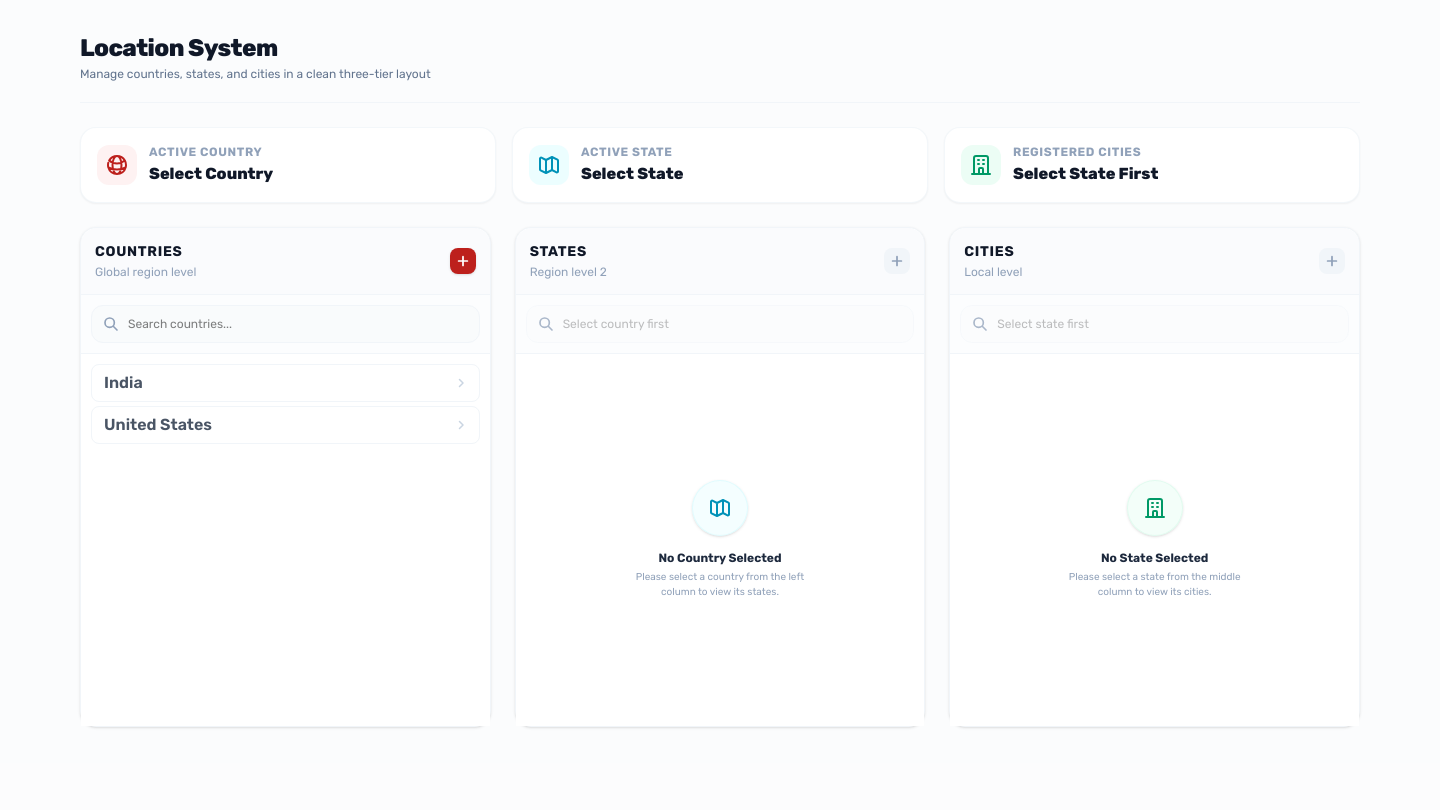
it: LocationManagement Component › should show states when a country is selected
Step 1. Click the text "India" → click(123, 383), box [104,371,143,395]
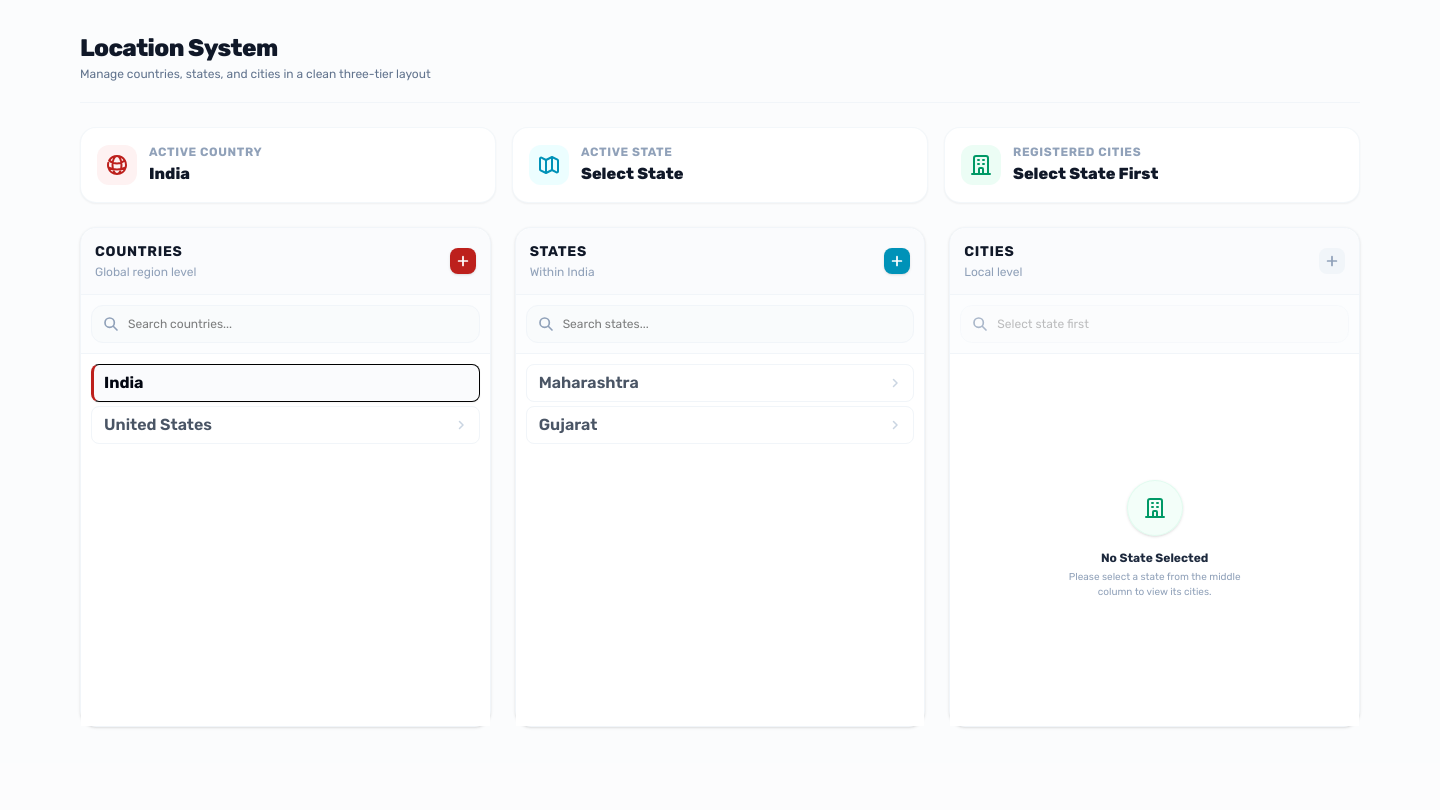
Result: the text "Maharashtra" is shown at [539,371,639,395]
Result: the text "Gujarat" is shown at [539,413,598,437]
